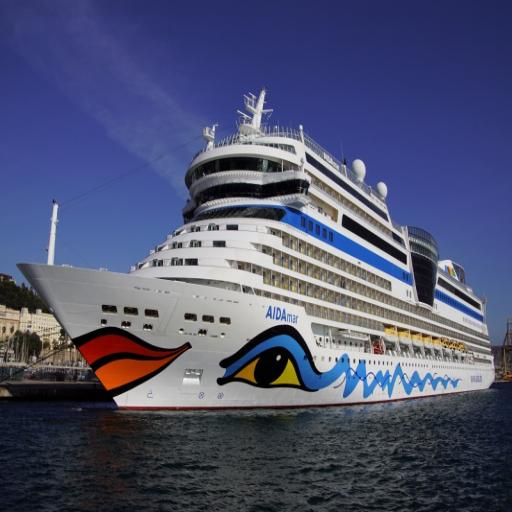cruises: (13, 88, 499, 409)
